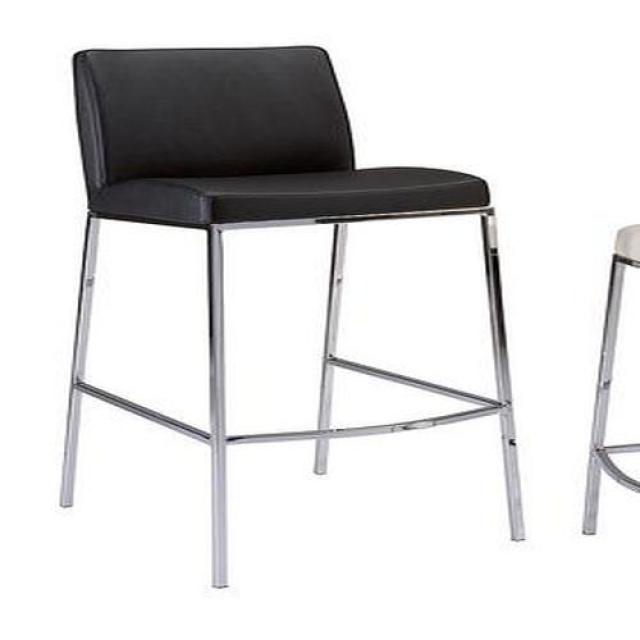chair: (58, 46, 524, 593)
